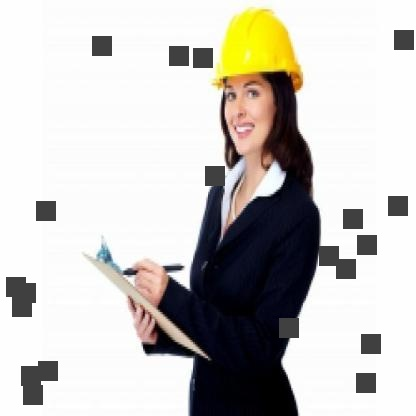yellow: (211, 3, 306, 95)
